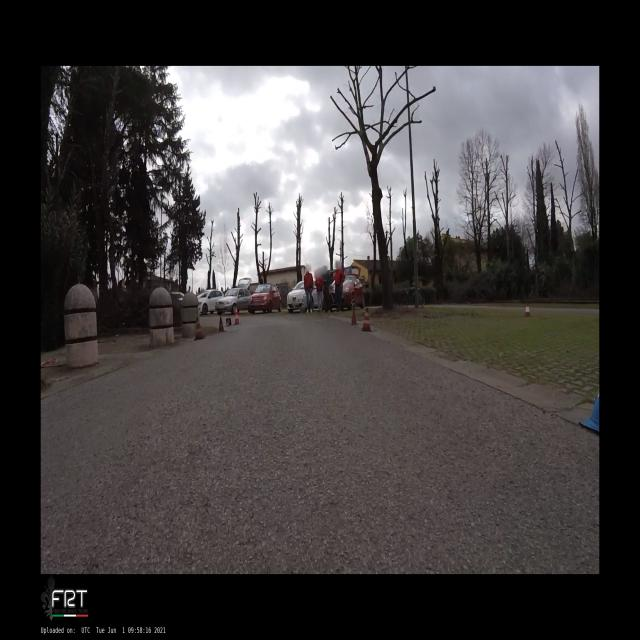blue_cone: (578, 386, 599, 432)
large_orange_cone: (193, 316, 206, 341), (362, 308, 372, 332), (233, 306, 241, 326)
orange_cone: (522, 302, 532, 317)
unknown_cone: (218, 316, 226, 332), (351, 310, 358, 326), (226, 318, 231, 327)
